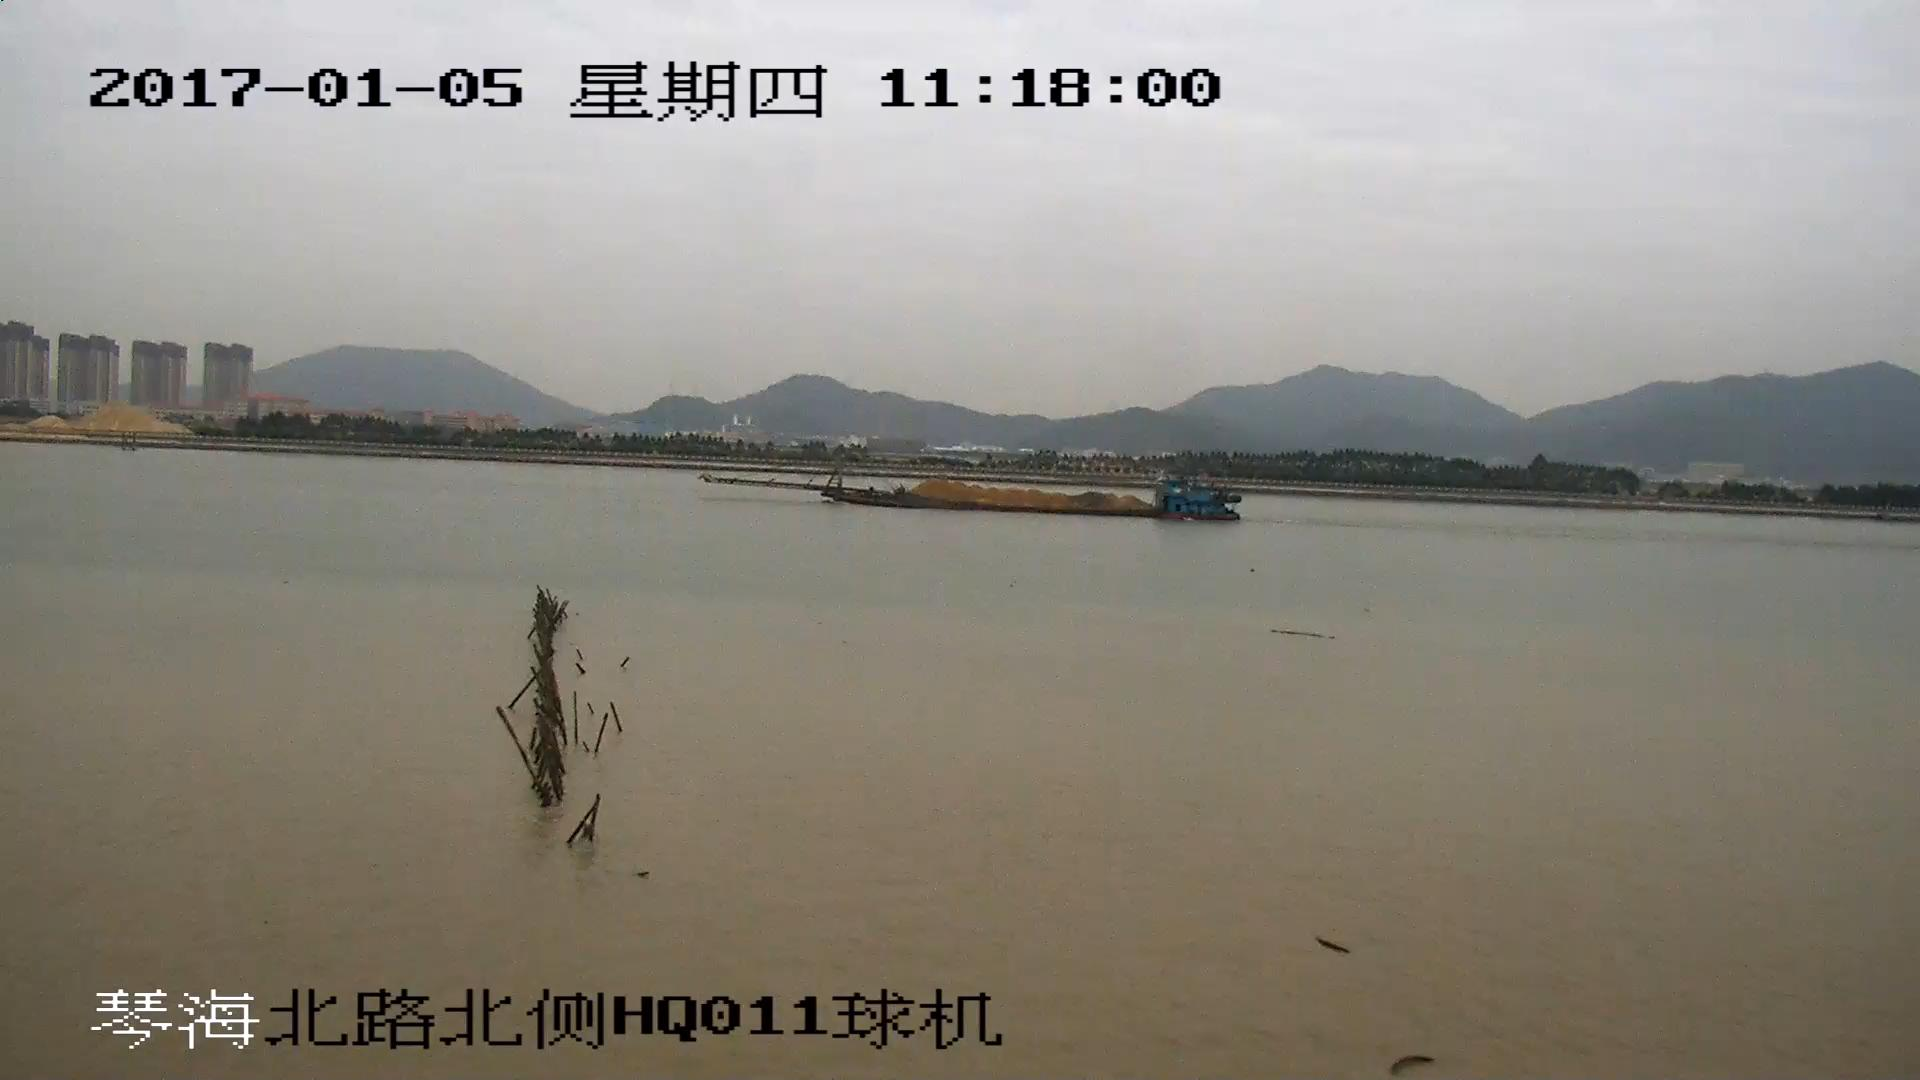ore carrier: (708, 452, 1242, 518)
